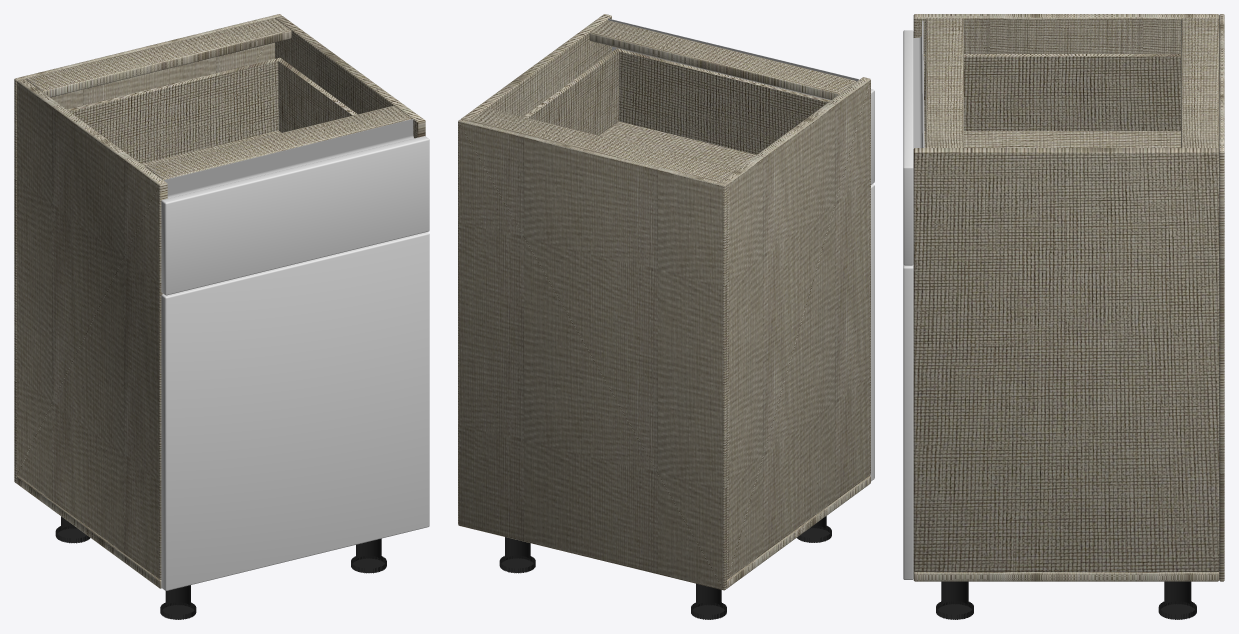
Rendered from armario.gltf.
The picture shows the model from 3 angles, left to right: view 1: azimuth 30°, elevation 25°; view 2: azimuth 150°, elevation 25°; view 3: azimuth 270°, elevation 25°; orthographic projection. The views are drawn at different scales.
Parts seen in each view (by area): view 1: Porta, Ilharga-Esq, Gaveta, Cube, Travessa.001, Costa, PuxadorJ_Fabulis, Ilharga-Dir, Travessa, Pes, Base; view 2: Costa, Ilharga-Esq, Cube, Travessa, Ilharga-Dir, Travessa.001, Pes, Base, Porta, PuxadorJ_Fabulis, Gaveta; view 3: Ilharga-Dir, Cube, Ilharga-Esq, Travessa.001, Travessa, Porta, Costa, Base, Gaveta, Pes, PuxadorJ_Fabulis.
Part boxes in pixels (box(x1,y1,x2,y2)): Porta: box(161, 232, 429, 590); Ilharga-Esq: box(17, 79, 167, 579); Gaveta: box(161, 136, 429, 295); Cube: box(67, 57, 357, 166); Travessa.001: box(25, 18, 291, 97); Costa: box(14, 14, 281, 483); PuxadorJ_Fabulis: box(164, 119, 414, 198); Ilharga-Dir: box(275, 16, 425, 138); Travessa: box(145, 105, 411, 180); Pes: box(55, 516, 386, 619); Base: box(17, 476, 161, 588); Costa: box(458, 119, 726, 590); Ilharga-Esq: box(719, 77, 870, 579); Cube: box(523, 48, 830, 169); Travessa: box(589, 20, 856, 99); Ilharga-Dir: box(461, 14, 611, 121); Travessa.001: box(469, 108, 736, 182); Pes: box(499, 516, 831, 619); Base: box(727, 475, 870, 588); Porta: box(870, 184, 874, 481); PuxadorJ_Fabulis: box(608, 18, 858, 81); Gaveta: box(612, 46, 874, 184); Ilharga-Dir: box(913, 148, 1219, 572); Cube: box(923, 54, 1180, 147); Ilharga-Esq: box(913, 14, 1219, 53); Travessa.001: box(1181, 18, 1219, 148); Travessa: box(925, 18, 963, 147); Porta: box(903, 264, 913, 579); Costa: box(1219, 14, 1224, 581); Base: box(913, 571, 1219, 581); Gaveta: box(903, 30, 913, 265); Pes: box(936, 581, 1196, 619); PuxadorJ_Fabulis: box(913, 18, 924, 148).
Bounding box in the file's own units: 0.6 × 0.97 × 0.589.
5 materials, 2 textured.
